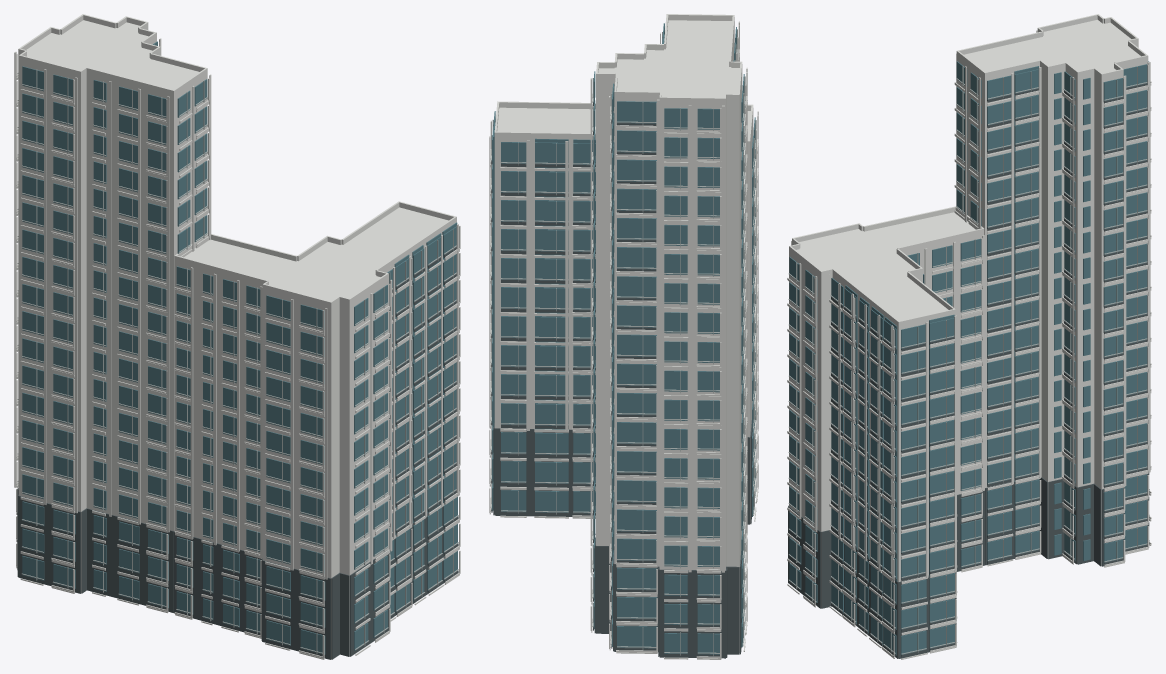
File: bespoke-acro-riverpark-108.glb
The picture shows the model from 3 angles, left to right: view 1: azimuth 30°, elevation 25°; view 2: azimuth 150°, elevation 25°; view 3: azimuth 270°, elevation 25°; orthographic projection. The views are drawn at different scales.
Visible parts, largest first — view 1: 108_R00_body, 108_R00_glass, 108_R00_dark, 108_R00_frame; view 2: 108_R00_body, 108_R00_glass, 108_R00_dark, 108_R00_frame; view 3: 108_R00_body, 108_R00_glass, 108_R00_dark, 108_R00_frame.
Boxes of the visible parts, left/top/right/bottom form: 108_R00_body: left=14, top=14, right=460, bottom=659; 108_R00_glass: left=22, top=41, right=457, bottom=654; 108_R00_dark: left=17, top=247, right=458, bottom=659; 108_R00_frame: left=17, top=44, right=458, bottom=654; 108_R00_body: left=489, top=14, right=758, bottom=659; 108_R00_glass: left=492, top=23, right=755, bottom=654; 108_R00_dark: left=491, top=102, right=752, bottom=658; 108_R00_frame: left=491, top=29, right=756, bottom=655; 108_R00_body: left=787, top=14, right=1151, bottom=659; 108_R00_glass: left=789, top=61, right=1148, bottom=655; 108_R00_dark: left=788, top=83, right=1149, bottom=658; 108_R00_frame: left=788, top=66, right=1149, bottom=654.
Size of the model in its own units: 45.89 by 68 by 45.65.
